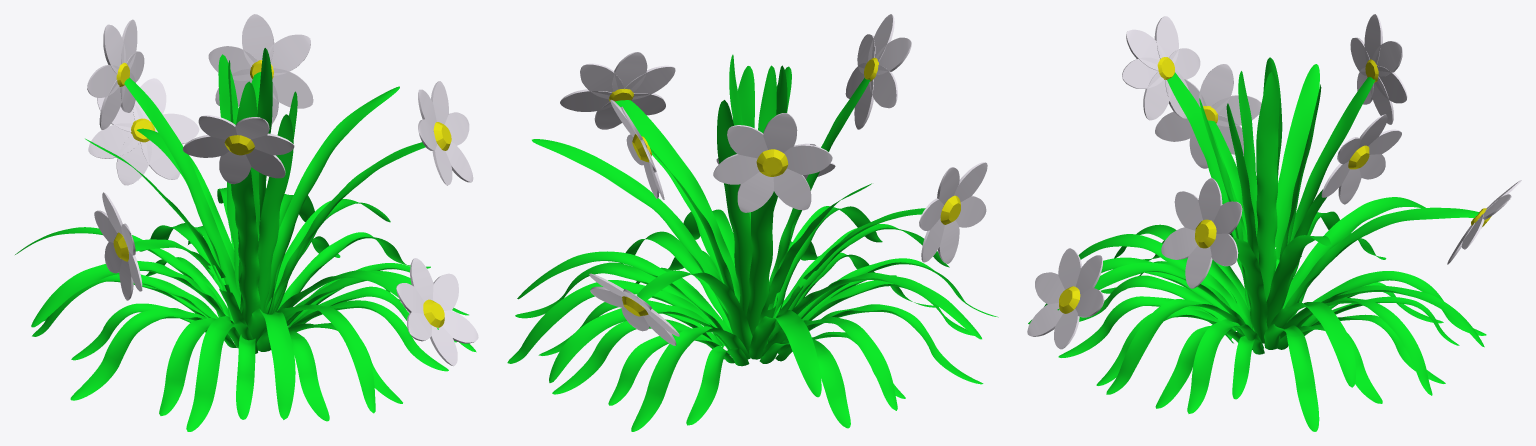
File: Flores.fbx
The picture shows the model from 3 angles, left to right: view 1: azimuth 30°, elevation 25°; view 2: azimuth 150°, elevation 25°; view 3: azimuth 270°, elevation 25°; orthographic projection. The views are drawn at different scales.
Parts seen in each view (by area): view 1: Flores; view 2: Flores; view 3: Flores.
Boxes of the visible parts, x1=… form: Flores: x1=15, y1=14, x2=478, y2=431; Flores: x1=507, y1=14, x2=998, y2=431; Flores: x1=1027, y1=14, x2=1521, y2=431.
Size of the model in its own units: 1196 by 787 by 1247.
